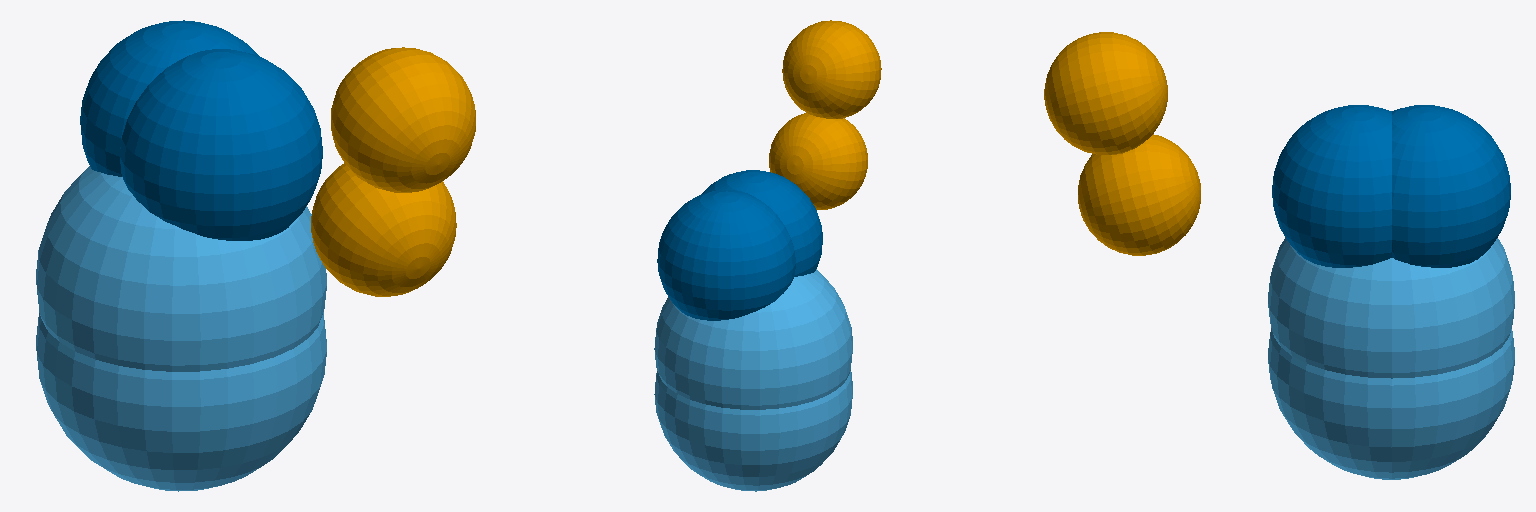
The robot description file, URDF, robot "drc_skeleton":
<?xml version="1.0"?>
<robot name="drc_skeleton">

    <link name="base_link" />
    
    <link name="pelvis">
        <inertial>
            <mass value="17.882" />
            <origin xyz="0.0111 0 0.0271" rpy="0 -0 0" />
            <inertia ixx="0.1244" ixy="0.0008" ixz="-0.0007" iyy="0.0958" iyz="-0.0005" izz="0.1167" />
        </inertial>
        <visual>
            <origin xyz="0 0 0" rpy="0 -0 0" />
            <geometry>
                <mesh filename="package://atlas_description/meshes_v3/pelvis.dae" scale="1 1 1" />
            </geometry>
        </visual>
        
       <visual name="capsule_p1">
         <geometry>  <sphere radius="0.30"/> </geometry>
         <origin  xyz="0.0  -0.0  0.10"/>
       </visual>
       
       <visual name="capsule_p2">
         <geometry>  <sphere radius="0.30"/> </geometry>
         <origin  xyz="0.0  -0.0  -0.05"/>
       </visual>
       
    </link>
    
    <link name="ltorso">
    <inertial>
      <mass value="2.409" />
      <origin xyz="-0.0112984 -3.15366e-06 0.0746835" rpy="0 -0 0" />
      <inertia ixx="0.0039092" ixy="-5.04491e-08" ixz="-0.000342157" iyy="0.00341694" iyz="4.87119e-07" izz="0.00174492" />
    </inertial>
    <visual>
      <origin xyz="0 0 0" rpy="0 -0 0" />
      <geometry>
        <mesh filename="package://atlas_description/meshes_v3/ltorso.dae" scale="1 1 1" />
      </geometry>
    </visual>
  </link>
  
  <link name="mtorso">
        <inertial>
            <mass value="0.69" />
            <origin xyz="-0.00816266 -0.0131245 0.0305974" rpy="0 -0 0" />
            <inertia ixx="0.000454181" ixy="-6.10764e-05" ixz="3.94009e-05" iyy="0.000483282" iyz="5.27463e-05" izz="0.000444215" />
        </inertial>
        <visual>
            <origin xyz="0 0 0" rpy="0 -0 0" />
            <geometry>
                <mesh filename="package://atlas_description/meshes_v3/mtorso.dae" scale="1 1 1" />
            </geometry>
        </visual>
    </link>
    
    <link name="utorso">
        <inertial>
            <mass value="63.73" />
            <origin xyz="-0.0581 0 0.3056" rpy="0 -0 0" />
            <inertia ixx="1.466" ixy="0.00362" ixz="0.336" iyy="1.51" iyz="0.001" izz="1.3" />
        </inertial>
        <visual>
            <origin xyz="0 0 0" rpy="0 -0 0" />
            <geometry>
                <mesh filename="package://atlas_description/meshes_v3/utorso.dae" scale="1 1 1" />
            </geometry>
        </visual>
        <visual>
            <origin xyz="0 0 0" rpy="0 -0 0" />
            <geometry>
                <mesh filename="package://atlas_description/meshes_v3/utorso_pack.dae" scale="1 1 1" />
            </geometry>
        </visual>
        
        <visual  name="capsule_p1">
         <geometry>  <sphere radius="0.21"/> </geometry>
         <origin xyz="0.06  -0.08  0.2"/>
       </visual>
       
       <visual  name="capsule_p2">
         <geometry>  <sphere radius="0.21"/> </geometry>
         <origin  xyz="0.06  0.08  0.2"/>
       </visual>
       
    </link>
    
    <link name="r_clav">
        <inertial>
            <mass value="3.45" />
            <origin xyz="0 0.00 -0.284" rpy="0.0 -0 0" />
            <inertia ixx="0.011" ixy="0" ixz="0" iyy="0.009" iyz="0.004" izz="0.004" />
        </inertial>
        <visual>
            <origin xyz="0 0.048 -0.45" rpy="0 -0 0" />
            <geometry>
                <mesh filename="package://atlas_description/meshes_v3/r_clav.dae" scale="1 1 1" />
            </geometry>
        </visual>
    </link>

    
    <link name="r_scap">
        <inertial>
            <mass value="3.012" />
            <origin xyz="0 0 0" rpy="0 -0 0" />
            <inertia ixx="0.00319" ixy="0" ixz="0" iyy="0.00583" iyz="0" izz="0.00583" />
        </inertial>
        <visual>
            <origin xyz="0 0 0" rpy="0 -0 0" />
            <geometry>
                <mesh filename="package://atlas_description/meshes_v3/r_scap.dae" scale="1 1 1" />
            </geometry>
        </visual>
    </link>
    

    <link name="r_uarm">
        <inertial>
            <mass value="3.388" />
            <origin xyz="0 0.065 0" rpy="0 -0 0" />
            <inertia ixx="0.00656" ixy="0" ixz="0" iyy="0.00358" iyz="0" izz="0.00656" />
        </inertial>
        <visual>
            <origin xyz="0 0 0" rpy="0 -0 0" />
            <geometry>
                <mesh filename="package://atlas_description/meshes_v3/r_uarm.dae" scale="1 1 1" />
            </geometry>
        </visual>
    </link>
    
    
   <link name="r_larm">
        <inertial>
            <mass value="2.509" />
            <origin xyz="0 0 0" rpy="0 -0 0" />
            <inertia ixx="0.00265" ixy="0" ixz="0" iyy="0.00446" iyz="0" izz="0.00446" />
        </inertial>
        <visual>
            <origin xyz="0 0 0" rpy="0 -0 0" />
            <geometry>
                <mesh filename="package://atlas_description/meshes_v3/r_larm.dae" scale="1 1 1" />
            </geometry>
        </visual>
   
    <visual  name="capsule_p1">
         <geometry>  <sphere radius="0.15"/> </geometry>
         <origin  xyz="0 -0.0 -0.0"/>
    </visual>
    
    <visual  name="capsule_p2">
         <geometry>  <sphere radius="0.15"/> </geometry>
         <origin  xyz="0 -0.28 -0.0"/>
    </visual>

    </link>
    
    <link name="r_farm">
        <inertial>
            <mass value="3.388" />
            <origin xyz="0 0.065 0" rpy="0 -0 0" />
            <inertia ixx="0.00656" ixy="0" ixz="0" iyy="0.00358" iyz="0" izz="0.00656" />
        </inertial>
        <visual>
            <origin xyz="0 0 0" rpy="0 -0 0" />
            <geometry>
                <mesh filename="package://atlas_description/meshes_v3/r_farm.dae" scale="1 1 1" />
            </geometry>
        </visual>
    </link>
    
    <link name="r_hand">
        <inertial>
            <mass value="2.509" />
            <origin xyz="0 0 0" rpy="0 -0 0" />
            <inertia ixx="0.00265" ixy="0" ixz="0" iyy="0.00446" iyz="0" izz="0.00446" />
        </inertial>
        <visual>
            <origin xyz="0 0 0" rpy="0 -0 0" />
            <geometry>
                <mesh filename="package://atlas_description/meshes_v3/r_hand.dae" scale="1 1 1" />
            </geometry>
        </visual>
    </link>

    <joint name="base_to_pelvis" type="fixed">
        <parent link="base_link"/>
        <child link="pelvis"/>
        <origin xyz="-0.0 0 0.0" rpy="0 -0 0" />
    </joint>
 
    
    <joint name="back_bkz" type="revolute">
        <origin xyz="-0.0125 0 0" rpy="0 -0 0" />
        <axis xyz="0 0 1" />
        <parent link="pelvis" />
        <child link="ltorso" />
        <dynamics damping="0.1" friction="0" />
        <limit effort="62" velocity="12" lower="-0.663225" upper="0.663225" />
        <safety_controller k_position="100" k_velocity="100" soft_lower_limit="-10.6632" soft_upper_limit="10.6632" />
    </joint>
    
        <joint name="back_bky" type="revolute">
        <origin xyz="0 0 0.162" rpy="0 -0 0" />
        <axis xyz="0 1 0" />
        <parent link="ltorso" />
        <child link="mtorso" />
        <dynamics damping="0.1" friction="0" />
        <limit effort="245" velocity="9" lower="-0.219388" upper="0.538783" />
        <safety_controller k_position="100" k_velocity="100" soft_lower_limit="-10.2194" soft_upper_limit="10.5388" />
    </joint>
    
    <joint name="back_bkx" type="revolute">
        <origin xyz="0 0 0.05" rpy="0 -0 0" />
        <axis xyz="1 0 0" />
        <parent link="mtorso" />
        <child link="utorso" />
        <dynamics damping="0.1" friction="0" />
        <limit effort="163" velocity="12" lower="-0.523599" upper="0.523599" />
        <safety_controller k_position="100" k_velocity="100" soft_lower_limit="-10.5236" soft_upper_limit="10.5236" />
    </joint>
    


    <joint name="r_arm_shz" type="revolute">
        <origin xyz="0.14 -0.20 0.48" rpy="0 -0 0" />
        <axis xyz="0 0 1" /> 
        <parent link="utorso" />
        <child link="r_clav" />
        <dynamics damping="0.1" friction="0" />
        <limit effort="198" velocity="12" lower="-0.785398" upper="1.5708" />
        <safety_controller k_position="100" k_velocity="100" soft_lower_limit="-10.7854" soft_upper_limit="11.5708" />
    </joint>
    <joint name="r_arm_shx" type="revolute">
        <origin xyz="0 -0.10 -0.25" rpy="0 -0 0" />
        <axis xyz="1 0 0" />
        <parent link="r_clav" />
        <child link="r_scap" />
        <dynamics damping="0.1" friction="0" />
        <limit effort="159" velocity="12" lower="-1.5708" upper="1.5708" />
        <safety_controller k_position="100" k_velocity="100" soft_lower_limit="-11.5708" soft_upper_limit="11.5708" />
    </joint>
    <joint name="r_arm_ely" type="revolute">
        <origin xyz="0 -0.19  0.0" rpy="0 -0 0" />
        <axis xyz="0 1 0" />
        <parent link="r_scap" />
        <child link="r_uarm" />
        <dynamics damping="0.1" friction="0" />
        <limit effort="106" velocity="12" lower="0" upper="3.14159" />
        <safety_controller k_position="100" k_velocity="100" soft_lower_limit="-10" soft_upper_limit="13.1416" />
    </joint>
    <joint name="r_arm_elx" type="revolute">
        <origin xyz="0 -0.12 0.0" rpy="0 -0 0" />
        <axis xyz="1 0 0" />
        <parent link="r_uarm" />
        <child link="r_larm" />
        <dynamics damping="0.1" friction="0" />
        <limit effort="159" velocity="12" lower="-2.35619" upper="-0.2" />
        <safety_controller k_position="100" k_velocity="100" soft_lower_limit="-12.3562" soft_upper_limit="10" />
    </joint>
    <joint name="r_arm_wry" type="revolute">
        <origin xyz="0 -0.19 -0.0" rpy="0 -0 0" />
        <axis xyz="0 1 0" />
        <parent link="r_larm" />
        <child link="r_farm" />
        <dynamics damping="0.1" friction="0" />
        <limit effort="106" velocity="12" lower="0" upper="3.14159" />
        <safety_controller k_position="100" k_velocity="100" soft_lower_limit="-10" soft_upper_limit="13.1416" />
    </joint>
    <joint name="r_arm_wrx" type="revolute">
        <origin xyz="0 -0.12 0.0" rpy="0 -0 0" />
        <axis xyz="1 0 0" />
        <parent link="r_farm" />
        <child link="r_hand" />
        <dynamics damping="0.1" friction="0" />
        <limit effort="56" velocity="12" lower="-1.1781" upper="1.1781" />
        <safety_controller k_position="100" k_velocity="100" soft_lower_limit="-11.1781" soft_upper_limit="11.1781" />
    </joint>

    <joint name="r_ee_fixed_joint" type="fixed">
        <parent link="r_hand"/>
        <child  link="r_ee_link"/>
        <origin rpy=" 0 0 -1.5708" xyz="0 -0.10  0"/>
    </joint>    
    <link name="r_ee_link"/>

	


</robot>

--- Facts derived from the render (not from the file) ---
The picture shows the robot from 3 angles, left to right: view 1: azimuth 30°, elevation 25°; view 2: azimuth 150°, elevation 25°; view 3: azimuth 270°, elevation 25°; orthographic projection.
Model drc_skeleton with 12 links and 11 joints (9 revolute, 2 fixed), rooted at base_link, posed all joints at 0 but 1 set to mid-range because 0 is outside their limits (r_arm_elx = -1.28).
Links seen in each view (by area): view 1: pelvis, utorso, r_larm; view 2: pelvis, utorso, r_larm; view 3: pelvis, utorso, r_larm.
Link boxes in pixels (<box>): pelvis: <box>36,166,326,491</box>; utorso: <box>80,20,322,240</box>; r_larm: <box>311,47,475,296</box>; pelvis: <box>654,269,852,491</box>; utorso: <box>657,170,822,320</box>; r_larm: <box>769,20,881,209</box>; pelvis: <box>1268,237,1514,479</box>; utorso: <box>1272,105,1510,267</box>; r_larm: <box>1044,32,1200,255</box>.
Size in the robot's own frame: 0.6 by 1.14 by 1.21 metres.
1 mesh visuals loaded from 11 distinct referenced files (1 Collada DAE); not drawn: 10 (reference not matched to a file when rendering).